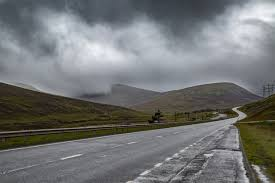strada: (74, 114, 259, 183)
